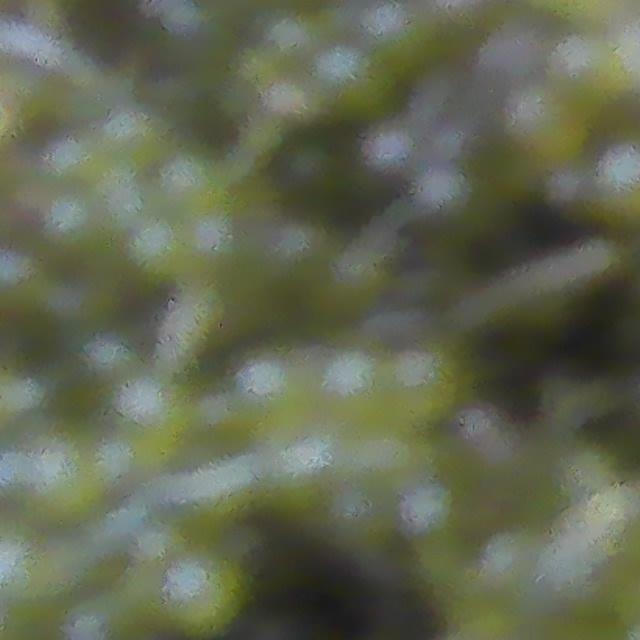SeaGrape: (161, 551, 248, 639)
